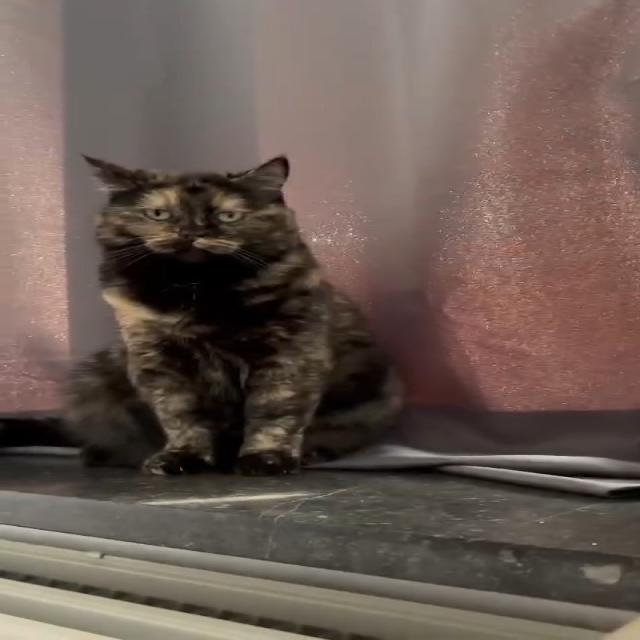authorized: (60, 152, 407, 476)
